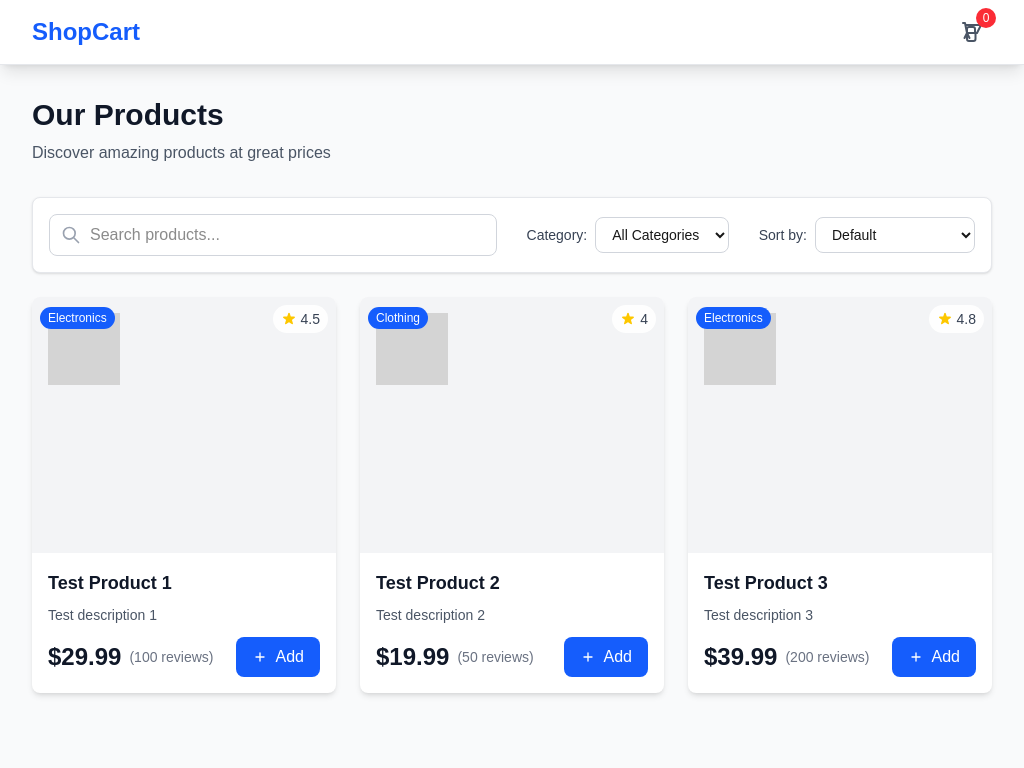
Test: Home Page › updates search results when typing
expect the heading "Test Product 1" is shown: met, box [48,573,172,593]
In the field with placeholder "Search products...": [273, 235] box [49,214,497,256], type "Test Product 1"
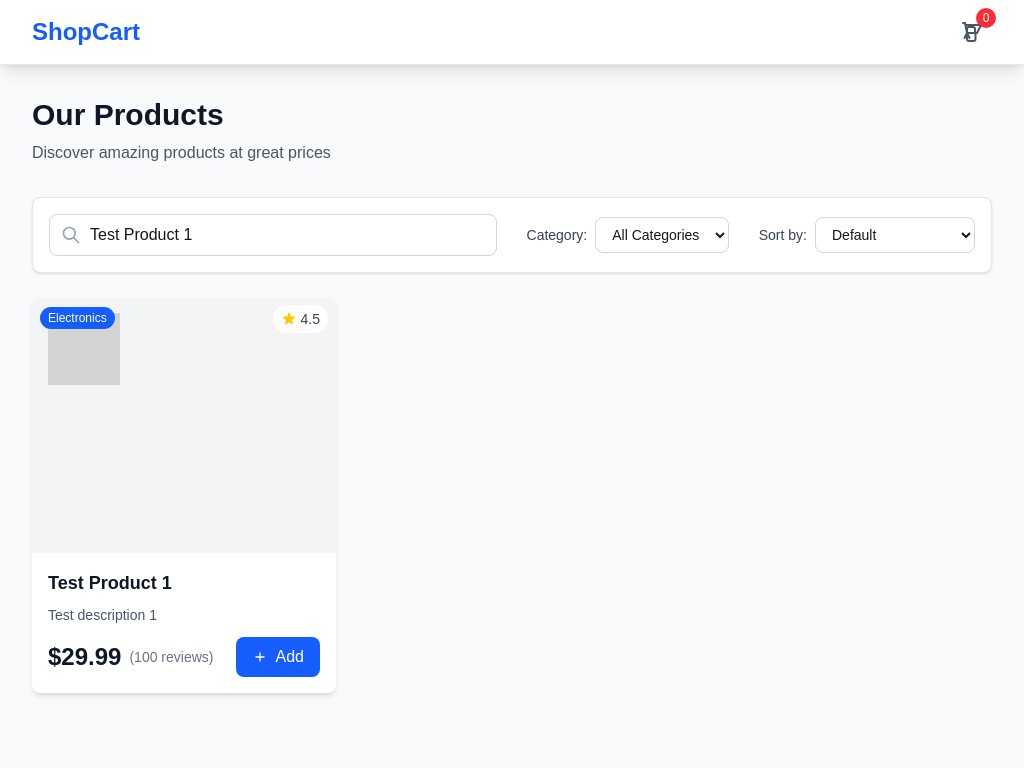
expect the heading "Test Product 1" is shown: met, box [48,573,172,593]
expect the link "Test Product 2" is gone: met
expect the link "Test Product 3" is gone: met
